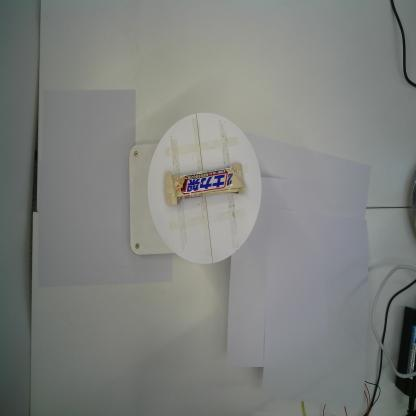Chocolate: (164, 162, 245, 206)
